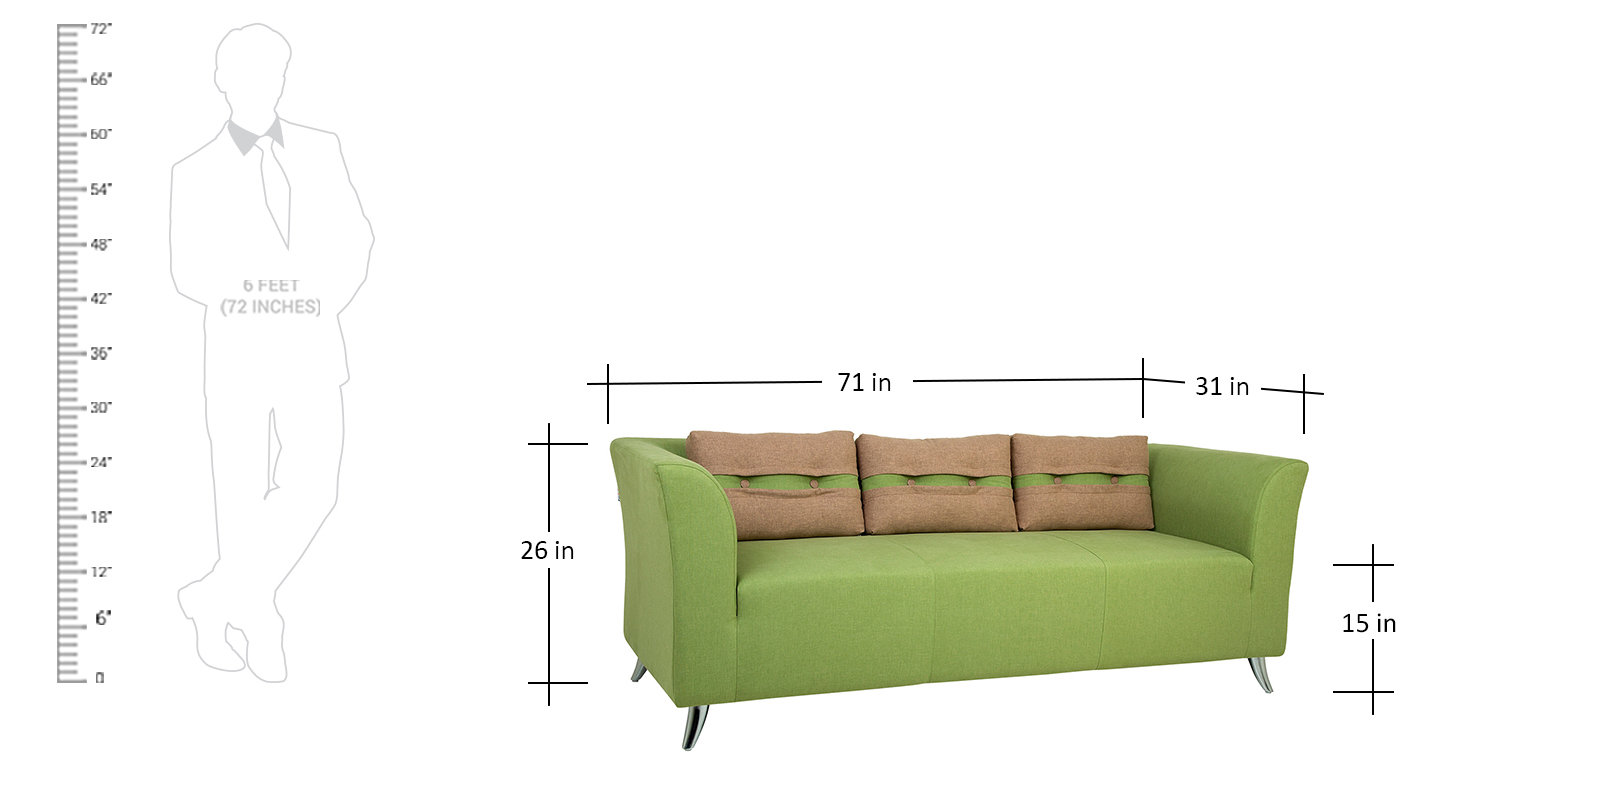Iowa Three Seater Sofa in Pear Green Colour by Furnitech: (600, 422, 1332, 735)
